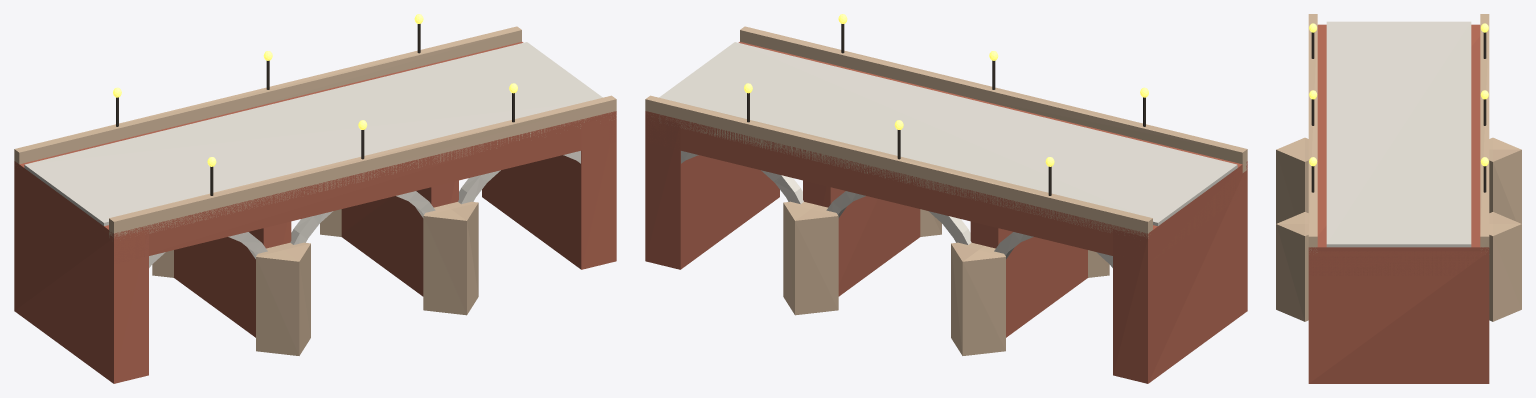
The model's file is stone_arch_bridge.glb.
The picture shows the model from 3 angles, left to right: view 1: azimuth 30°, elevation 25°; view 2: azimuth 150°, elevation 25°; view 3: azimuth 270°, elevation 25°; orthographic projection. The views are drawn at different scales.
Visible parts, largest first — view 1: Roadway, Abutments, Parapet, Deck, Cutwaters, Piers, Arches, LampPosts; view 2: Roadway, Abutments, Parapet, Deck, Cutwaters, Piers, Arches, LampPosts; view 3: Roadway, Abutments, Cutwaters, Deck, Parapet, LampPosts, Lamps.
Part boxes in pixels (x1,y1,x2,y2): Roadway: (24,42,602,225); Abutments: (14,115,616,383); Parapet: (14,26,616,237); Deck: (14,42,616,263); Cutwaters: (152,201,478,355); Piers: (174,180,458,337); Arches: (149,151,580,267); LampPosts: (116,24,514,195); Roadway: (659,42,1237,225); Abutments: (645,115,1247,383); Parapet: (645,26,1247,238); Deck: (645,42,1247,261); Cutwaters: (783,201,1109,355); Piers: (803,180,1087,337); Arches: (681,151,1112,267); LampPosts: (747,24,1145,195); Roadway: (1326,21,1471,247); Abutments: (1308,251,1489,383); Cutwaters: (1276,137,1521,321); Deck: (1308,24,1489,275); Parapet: (1308,14,1489,252); LampPosts: (1311,32,1486,192); Lamps: (1309,23,1488,166).
Bounding box in the file's own units: 14 × 5.34 × 6.53.
